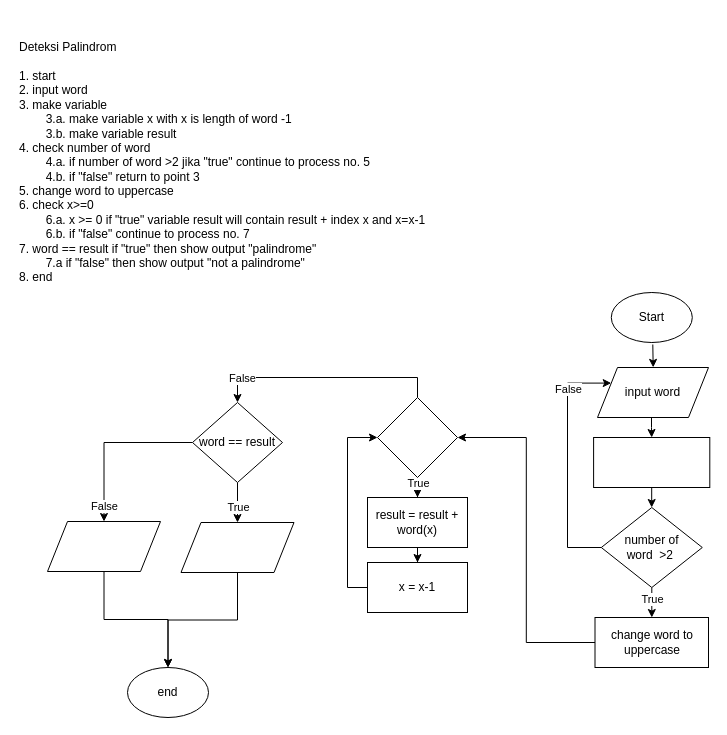
Some shapes in this 727 by 735 pixel diagram are drawn without their labels. Each missing label, with the centre of its shape:
Output "not a Palindrome": (103,546)
Output "Palindrome": (237,547)
x = length of word -1 result =" ": (651,462)
x > = 0: (417,437)
